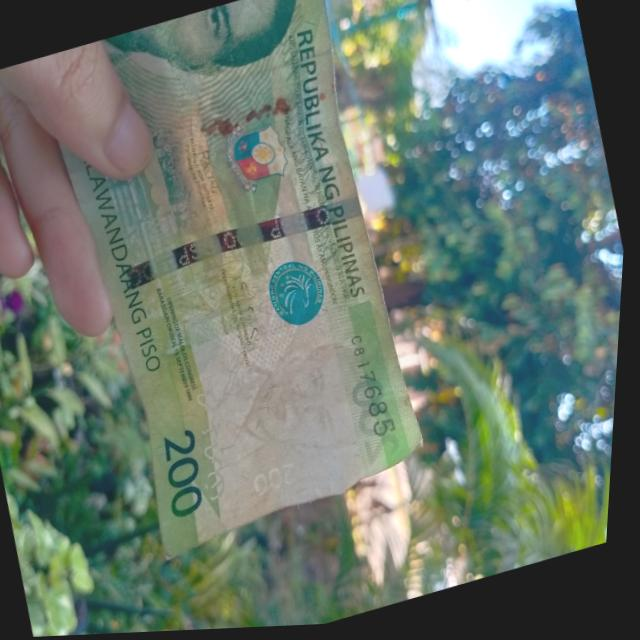security_thread: (104, 193, 369, 301)
see_through_mark: (175, 364, 242, 507)
serial_number: (347, 330, 407, 448)
value_watermark: (246, 454, 313, 507)
watermark: (196, 312, 397, 489)
